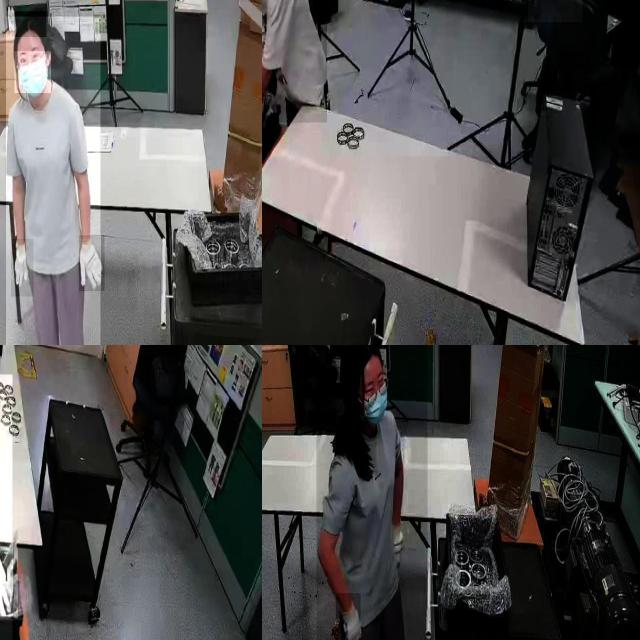face_mask: (352, 349, 394, 428), (15, 51, 51, 93)
glasses: (15, 50, 45, 76)
hand_glove: (79, 235, 105, 292), (0, 543, 18, 618), (11, 239, 34, 297), (336, 593, 361, 640)
head_nohelmet: (14, 11, 47, 38), (340, 345, 381, 357)
person: (316, 345, 427, 640), (6, 16, 101, 345), (262, 0, 327, 123), (603, 0, 640, 69)
